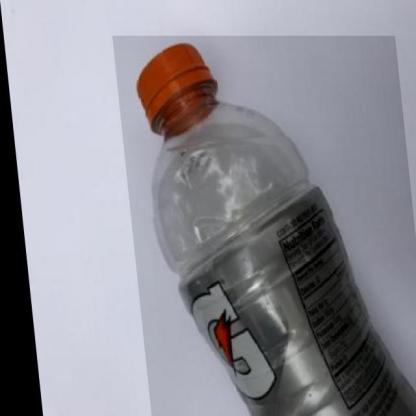Glass Bottle: (134, 40, 416, 416)
